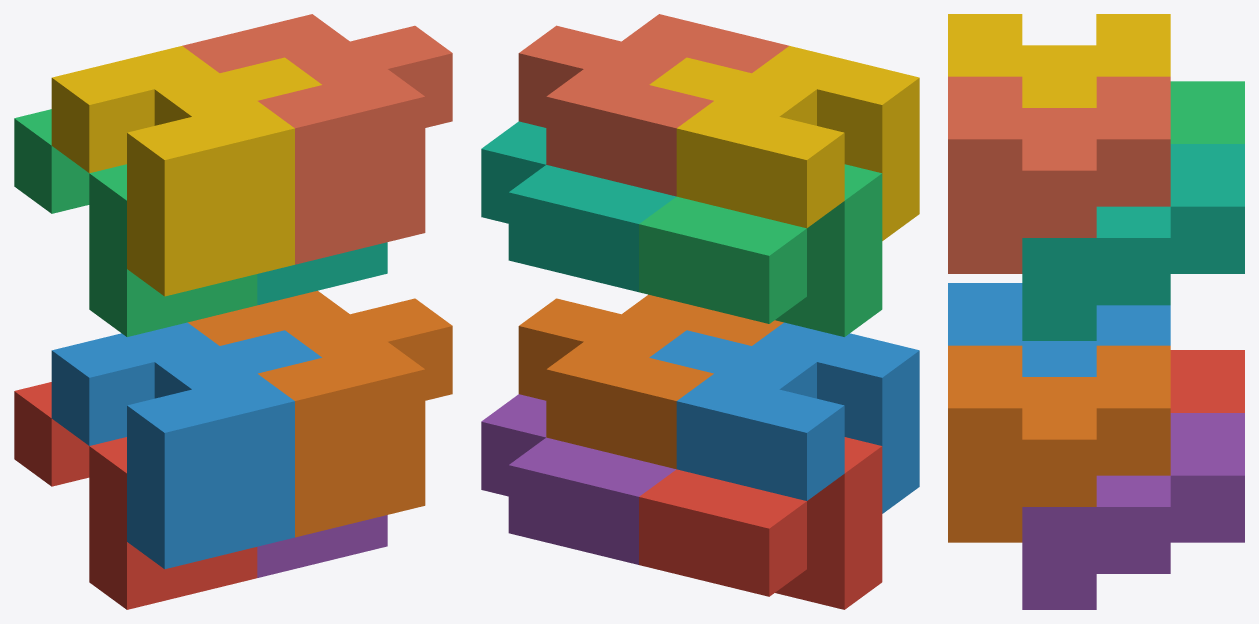
The model's file is tiling.obj.
3 views of the same model, side by side, from view 1: azimuth 30°, elevation 25°; view 2: azimuth 150°, elevation 25°; view 3: azimuth 270°, elevation 25° (orthographic).
Visible parts, largest first — view 1: copy_1_domain_4, copy_1_domain_2, copy_1_domain_8, copy_1_domain_6, copy_1_domain_1, copy_1_domain_3, copy_1_domain_7, copy_1_domain_5; view 2: copy_1_domain_4, copy_1_domain_2, copy_1_domain_3, copy_1_domain_1, copy_1_domain_8, copy_1_domain_6, copy_1_domain_7, copy_1_domain_5; view 3: copy_1_domain_6, copy_1_domain_8, copy_1_domain_7, copy_1_domain_5, copy_1_domain_4, copy_1_domain_2, copy_1_domain_1, copy_1_domain_3.
Part boxes in pixels (<box>): copy_1_domain_4: <box>51,46,321,296</box>; copy_1_domain_2: <box>51,322,321,569</box>; copy_1_domain_8: <box>182,14,452,264</box>; copy_1_domain_6: <box>187,290,452,537</box>; copy_1_domain_1: <box>14,382,257,609</box>; copy_1_domain_3: <box>14,109,257,336</box>; copy_1_domain_7: <box>257,242,387,305</box>; copy_1_domain_5: <box>257,515,387,577</box>; copy_1_domain_4: <box>649,46,919,240</box>; copy_1_domain_2: <box>649,322,919,513</box>; copy_1_domain_3: <box>639,164,882,336</box>; copy_1_domain_1: <box>639,437,882,609</box>; copy_1_domain_8: <box>518,14,788,196</box>; copy_1_domain_6: <box>518,294,783,469</box>; copy_1_domain_7: <box>481,121,676,292</box>; copy_1_domain_5: <box>481,394,675,564</box>; copy_1_domain_6: <box>948,345,1170,542</box>; copy_1_domain_8: <box>948,76,1170,273</box>; copy_1_domain_7: <box>1022,144,1244,340</box>; copy_1_domain_5: <box>1022,413,1244,609</box>; copy_1_domain_4: <box>948,14,1170,107</box>; copy_1_domain_2: <box>948,283,1170,376</box>; copy_1_domain_1: <box>1170,350,1244,412</box>; copy_1_domain_3: <box>1170,81,1244,143</box>.
Size of the model in its own units: 5 by 7 by 4.
